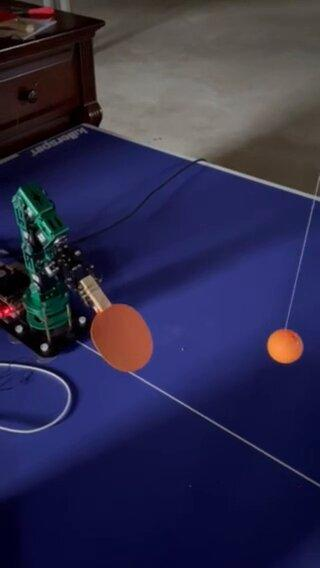oball: (267, 328, 301, 363)
